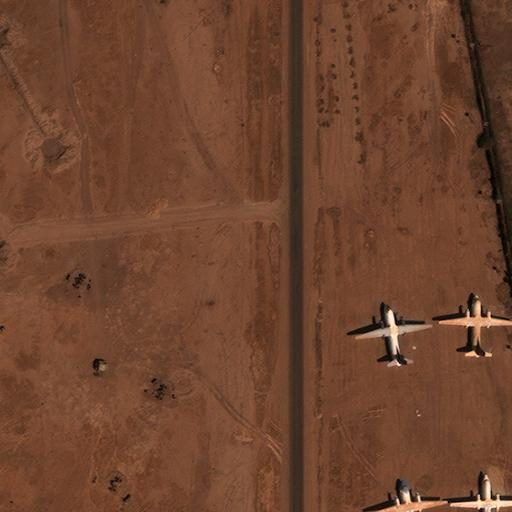Military Transport: (353, 305, 432, 368), (439, 295, 512, 358), (371, 479, 447, 512), (450, 472, 512, 512)
